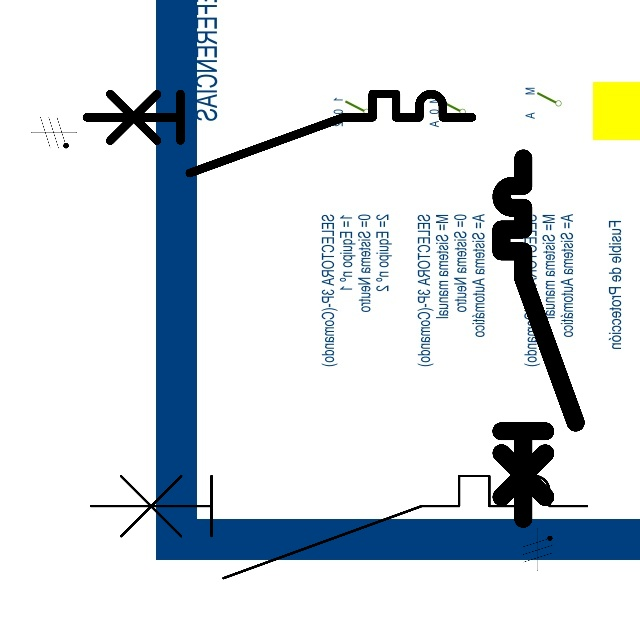interruptor_termomagnetico: (78, 463, 600, 590), (76, 84, 482, 183), (492, 149, 584, 528)
